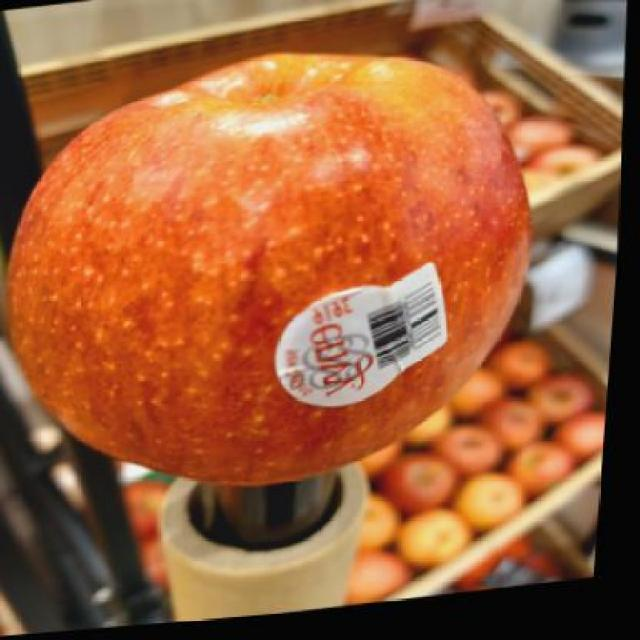Fresh Apple: (22, 63, 544, 479)
